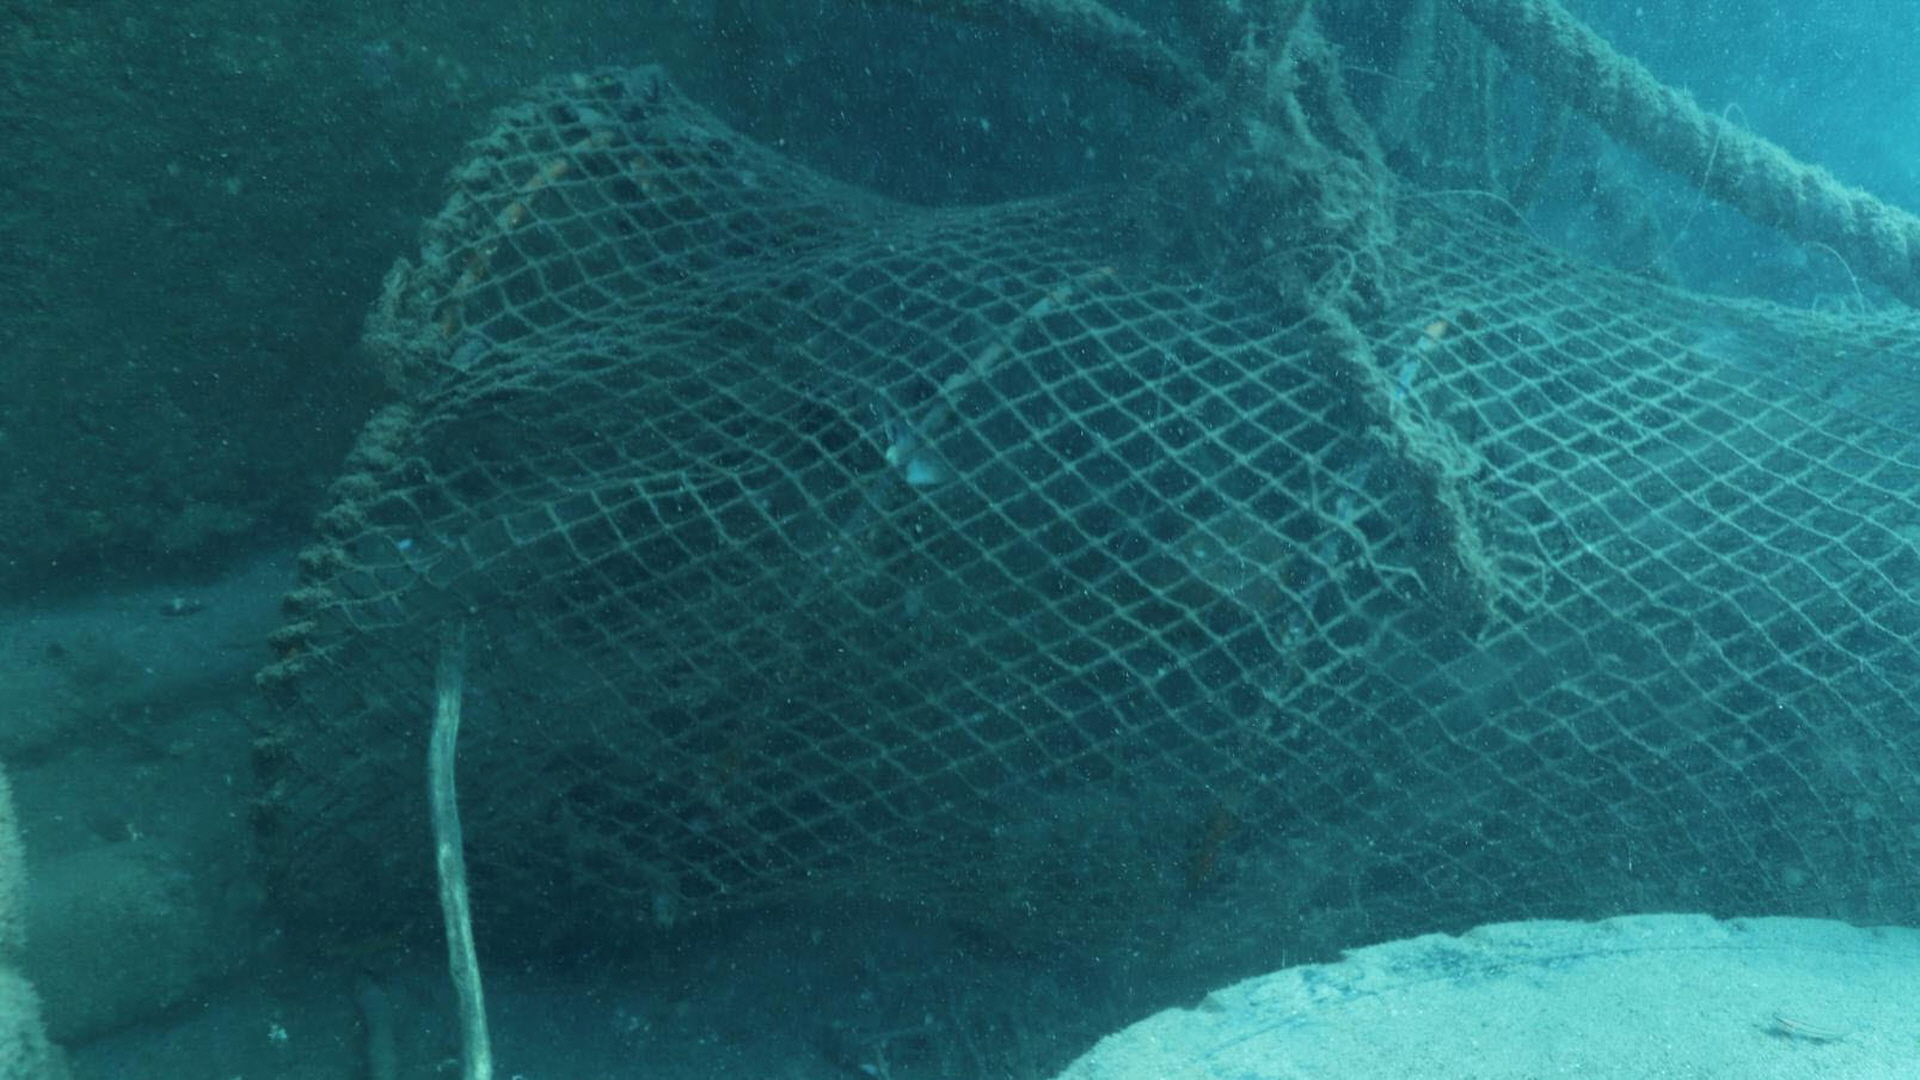bundle of ropes: (905, 0, 1258, 109)
rope: (1455, 1, 1920, 309)
spring fish trap: (239, 57, 1920, 1007)
